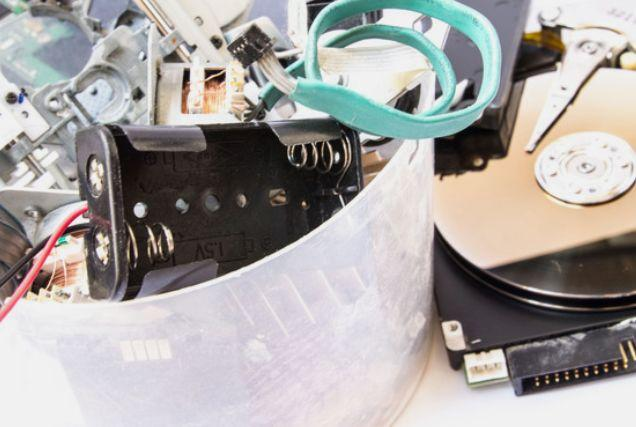electronic: (418, 31, 636, 399), (3, 4, 289, 204), (83, 112, 366, 311), (262, 5, 449, 93), (2, 204, 90, 336), (109, 2, 258, 67), (462, 348, 509, 388)
